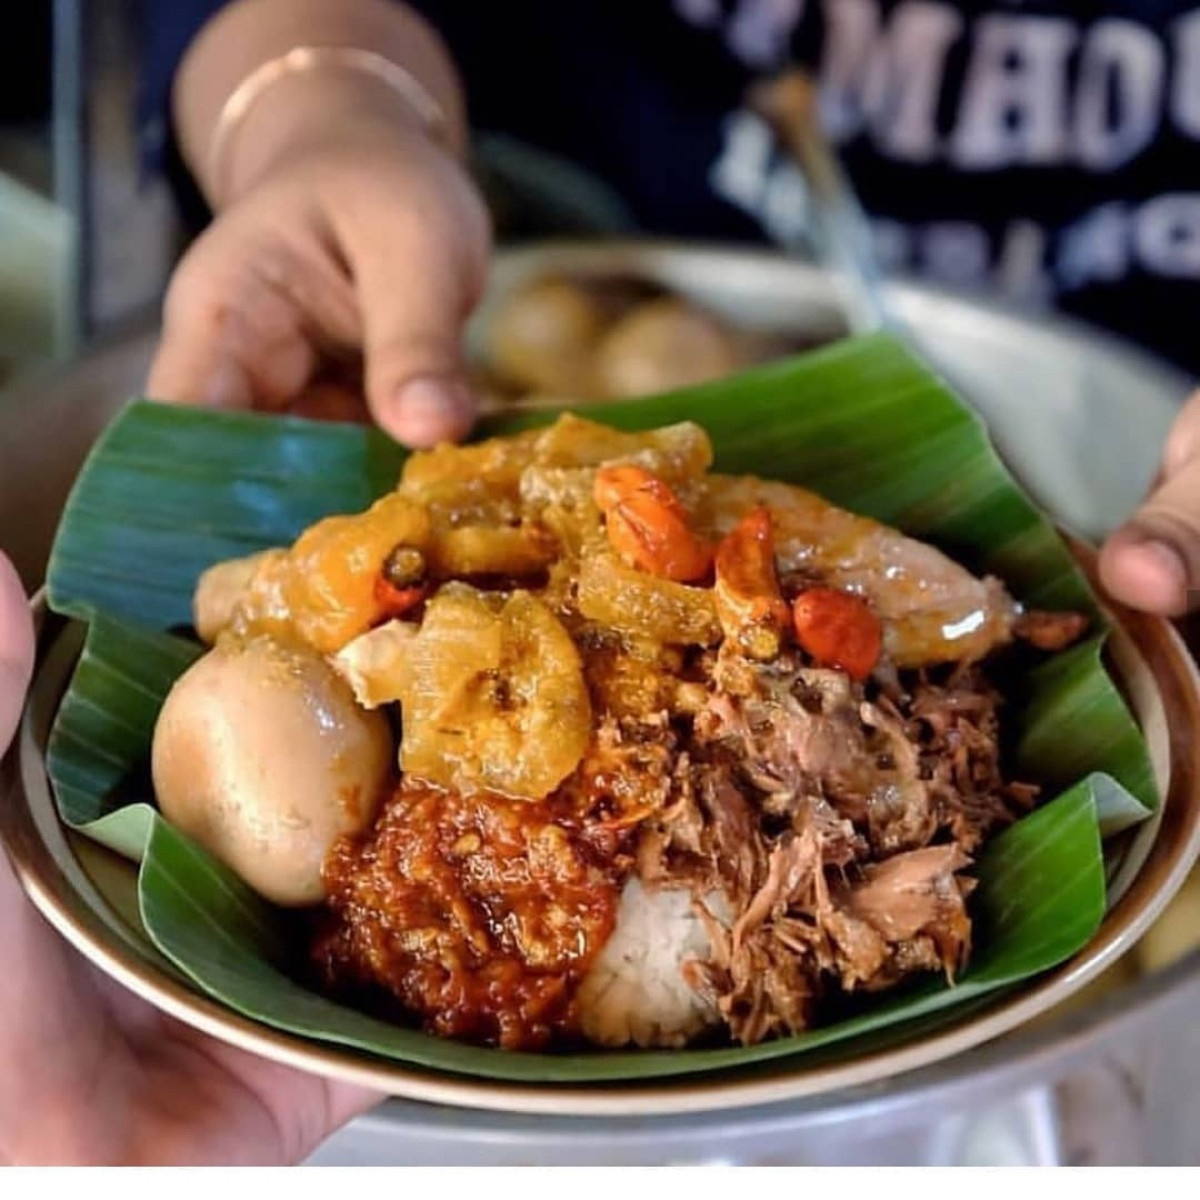gudeg: (134, 429, 1062, 1048)
